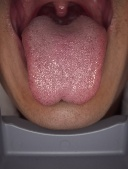tongue: (19, 30, 110, 106)
